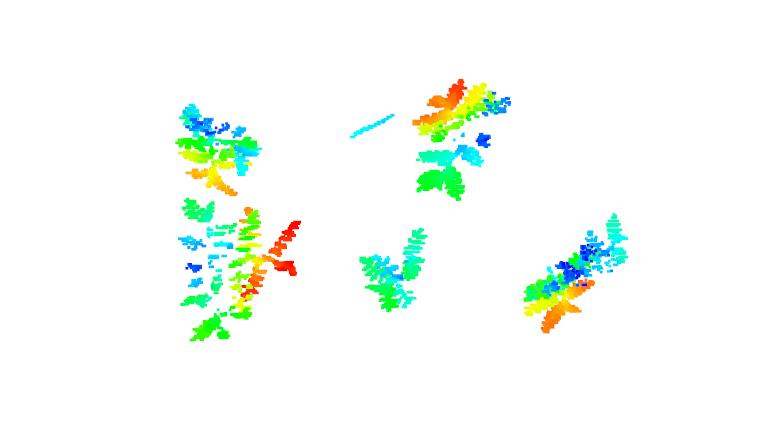chickpea: (179, 199, 303, 341), (521, 211, 633, 334), (410, 79, 515, 203), (172, 101, 265, 198), (356, 226, 431, 314)
